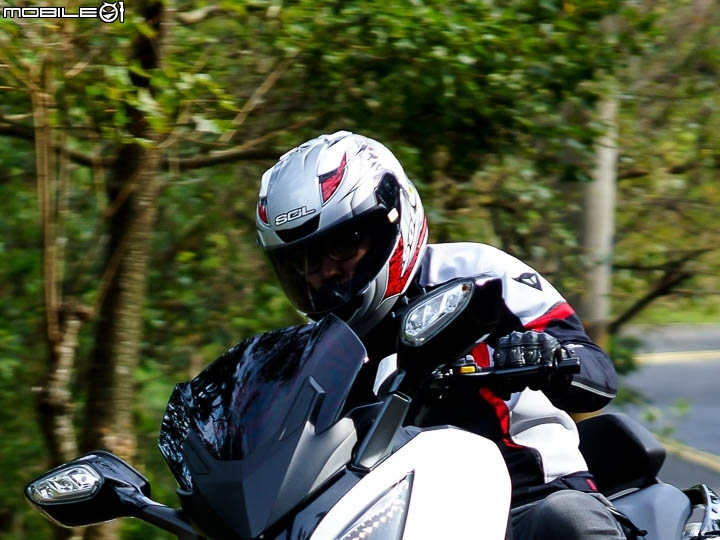helmet: (248, 145, 428, 306)
